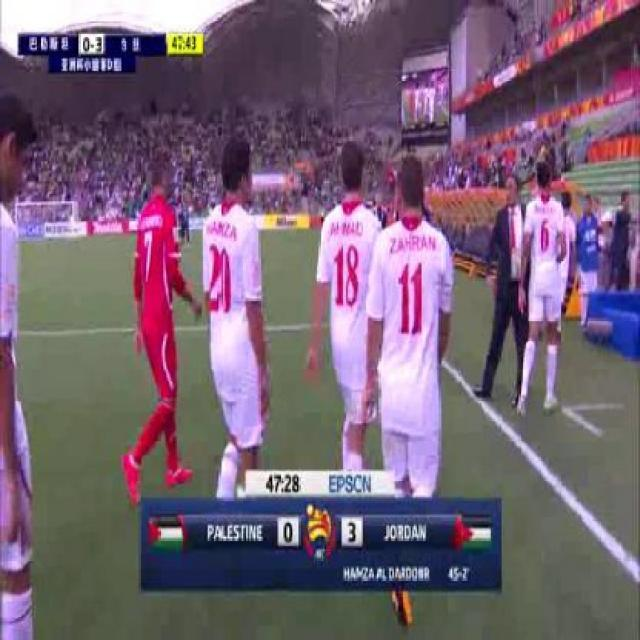player: (376, 152, 454, 499), (209, 138, 275, 486), (127, 149, 193, 491), (310, 144, 378, 462)
